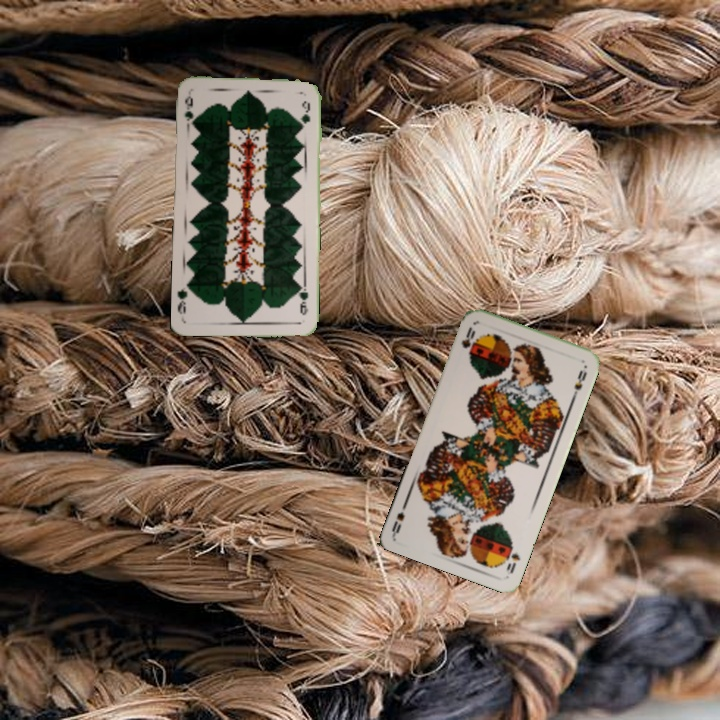G9: (181, 92, 197, 130), (295, 281, 311, 318)
SO: (457, 323, 478, 358), (502, 549, 523, 576)
